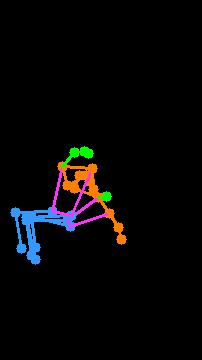normal: (1, 133, 135, 275)
